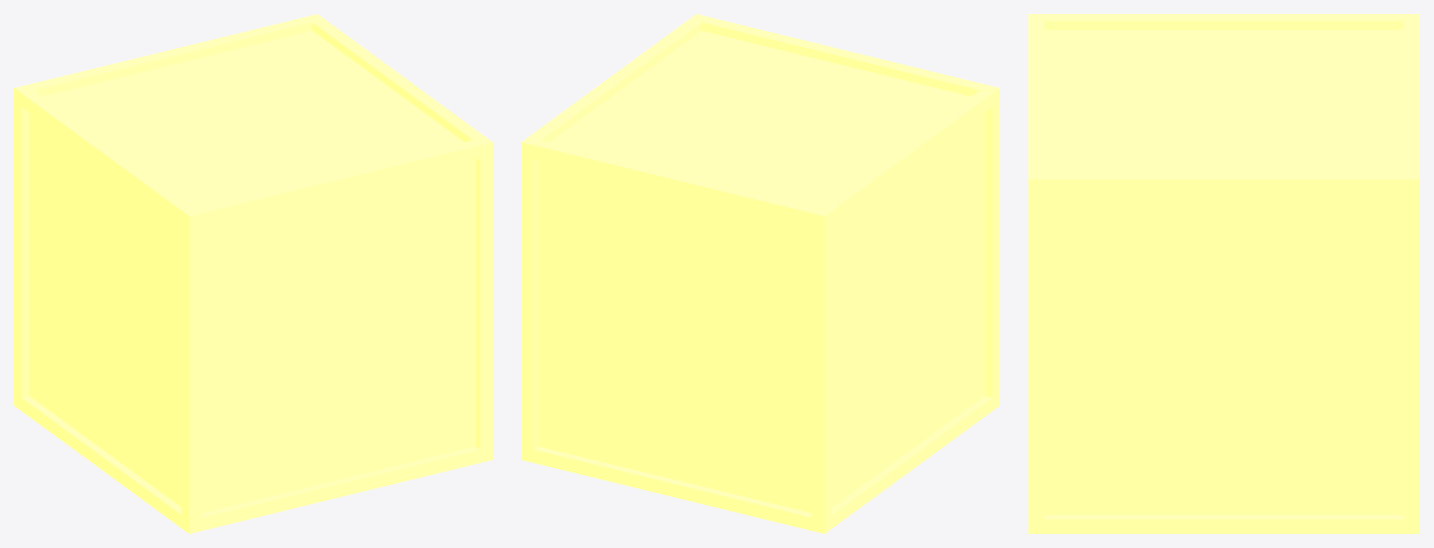
Rendered from SFI0410010.fbx.
The picture shows the model from 3 angles, left to right: view 1: azimuth 30°, elevation 25°; view 2: azimuth 150°, elevation 25°; view 3: azimuth 270°, elevation 25°; orthographic projection. The views are drawn at different scales.
Parts seen in each view (by area): view 1: smSFI0410010; view 2: smSFI0410010; view 3: smSFI0410010.
Boxes of the visible parts, x1,y1,x2,y2 form: smSFI0410010: (14, 14, 492, 533); smSFI0410010: (521, 14, 999, 533); smSFI0410010: (1028, 14, 1419, 533).
Size of the model in its own units: 100 by 100 by 100.
